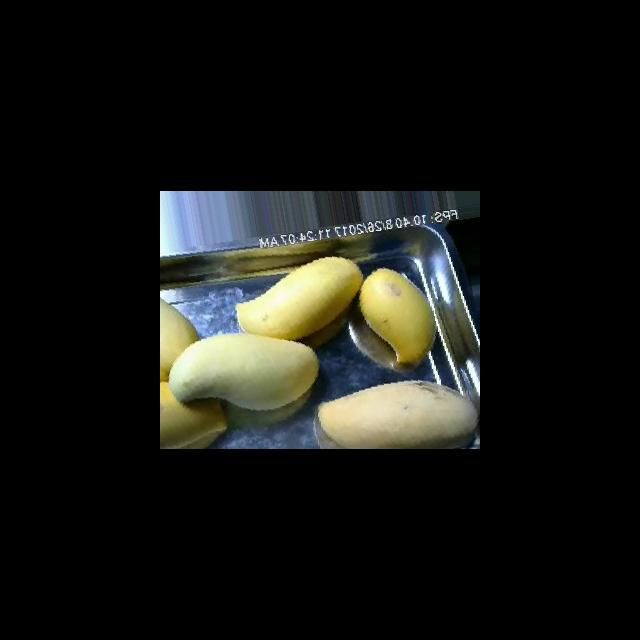mango: (167, 331, 319, 410), (315, 379, 478, 448), (235, 255, 362, 340), (358, 267, 436, 365), (160, 380, 228, 448), (160, 290, 198, 381)
